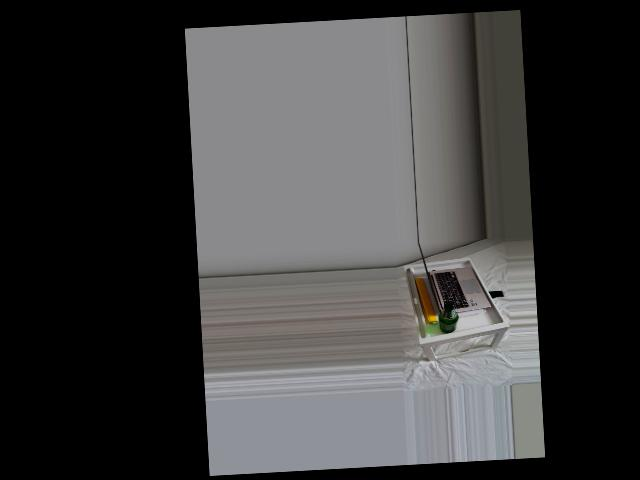beer: (437, 301, 458, 333)
